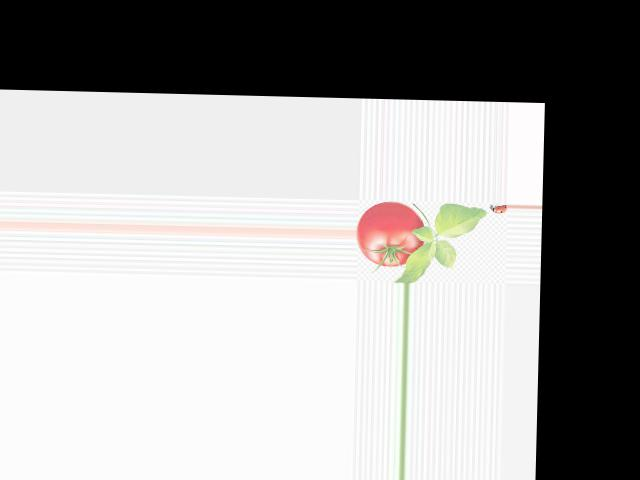tomato: (355, 200, 425, 267)
